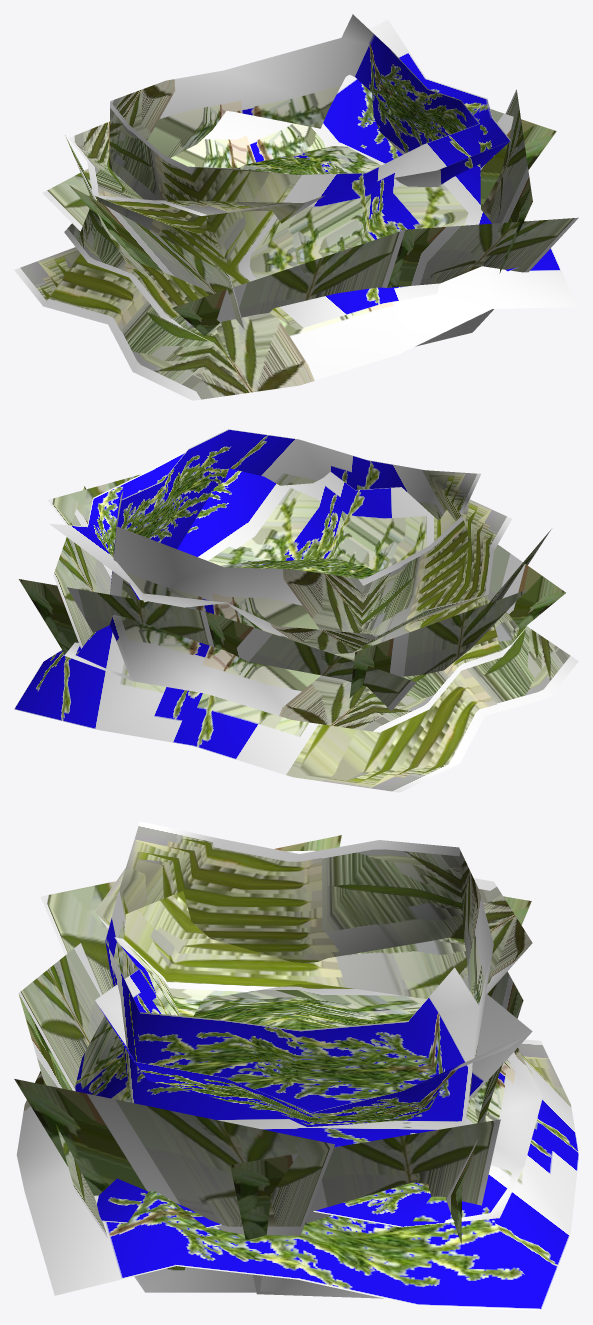
The model's file is shrubbery10m.DAE.
3 views of the same model, one above another, from view 1: azimuth 30°, elevation 25°; view 2: azimuth 150°, elevation 25°; view 3: azimuth 270°, elevation 25° (orthographic). The views are drawn at different scales.
Parts seen in each view (by area): view 1: Plane04, Plane01, Object01, Plane02, Plane03; view 2: Plane04, Plane01, Plane02, Plane03, Object01; view 3: Plane04, Plane01, Object01, Plane02, Plane03.
Boxes of the visible parts, x1=… form: Plane04: x1=64, y1=14, x2=518, y2=341; Plane01: x1=14, y1=146, x2=577, y2=400; Object01: x1=69, y1=89, x2=578, y2=346; Plane02: x1=69, y1=20, x2=510, y2=234; Plane03: x1=42, y1=109, x2=556, y2=280; Plane04: x1=64, y1=429, x2=525, y2=732; Plane01: x1=14, y1=558, x2=578, y2=792; Plane02: x1=49, y1=451, x2=511, y2=654; Plane03: x1=19, y1=486, x2=526, y2=711; Object01: x1=47, y1=474, x2=565, y2=630; Plane04: x1=75, y1=821, x2=542, y2=1227; Plane01: x1=16, y1=984, x2=578, y2=1310; Object01: x1=14, y1=835, x2=341, y2=1292; Plane02: x1=95, y1=850, x2=532, y2=1126; Plane03: x1=230, y1=896, x2=531, y2=1298.
Bounding box in the file's own units: 16.33 × 8.4 × 13.12.
Materials: 1 (1 with a texture image).
